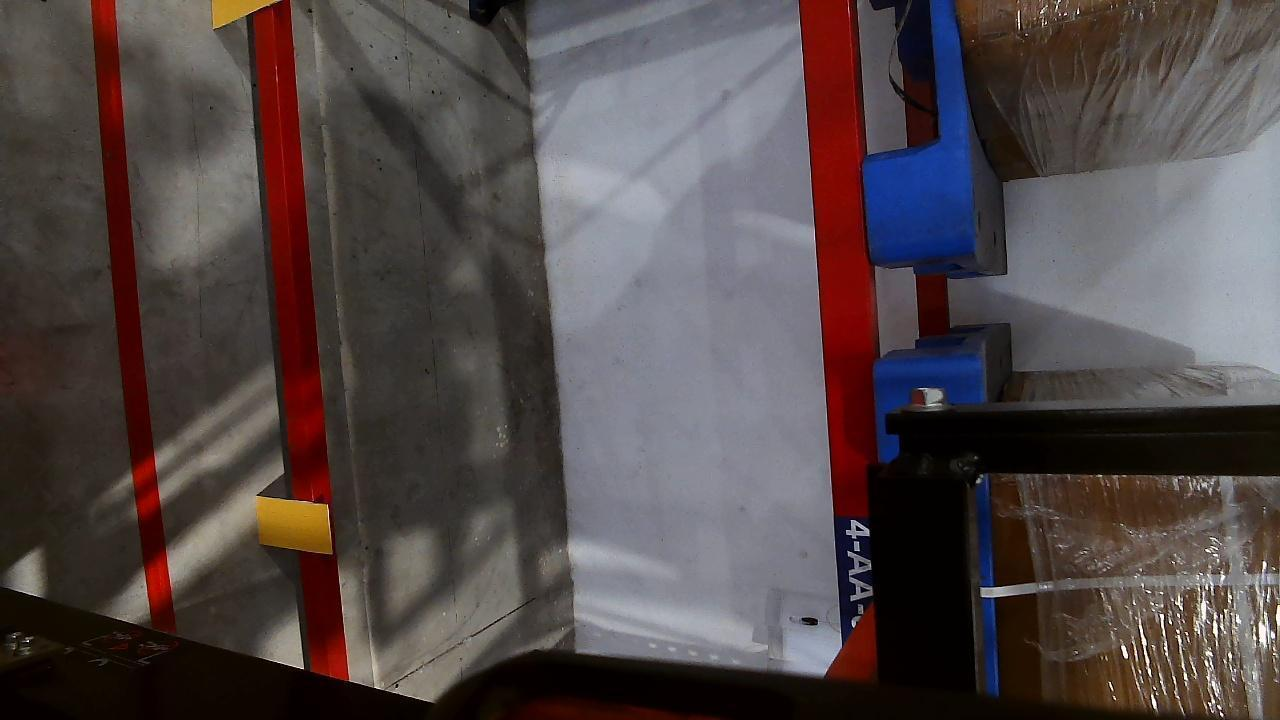red_line: (90, 0, 164, 605)
